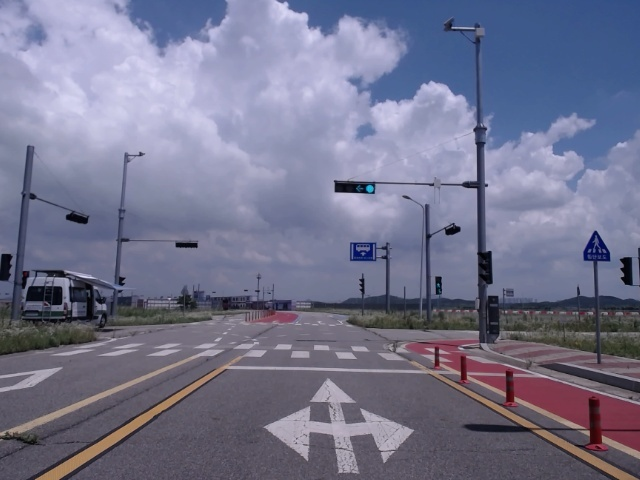all_green_4: (336, 181, 376, 194)
